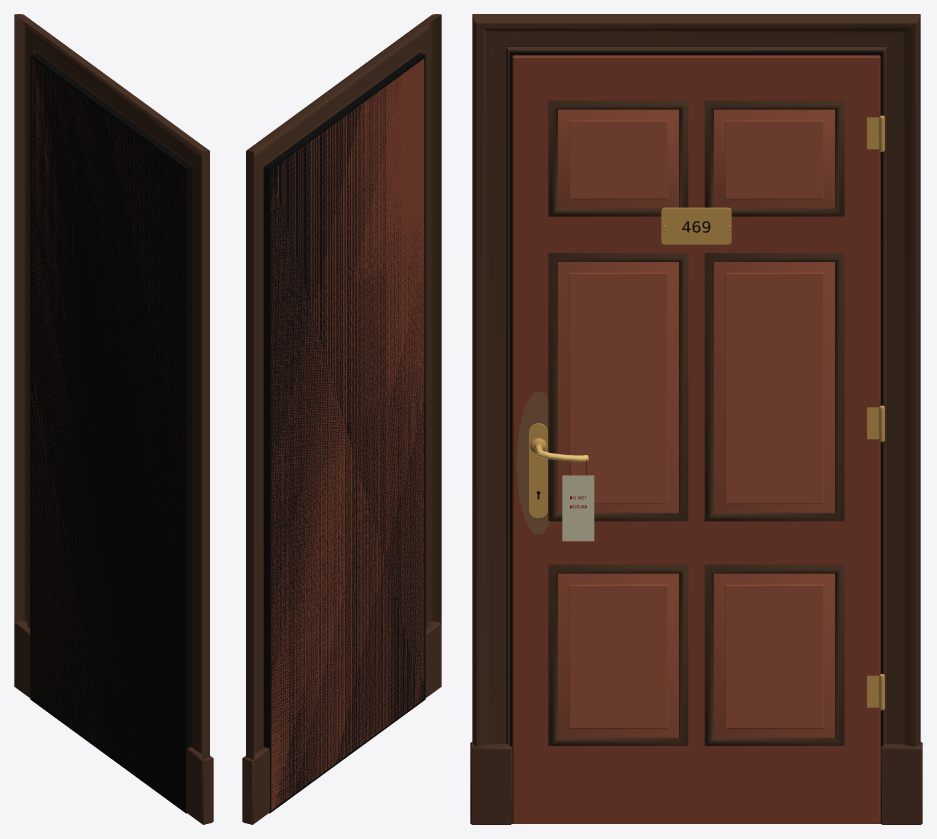
File: hotel_door_b@2.glb
3 views of the same model, side by side, from view 1: azimuth 30°, elevation 25°; view 2: azimuth 150°, elevation 25°; view 3: azimuth 270°, elevation 25° (orthographic). The views are drawn at different scales.
Parts seen in each view (by area): view 1: fuge, bekleidung, blatt; view 2: fuge, blatt, bekleidung; view 3: fuellungen, blatt, bekleidung, kehlleisten, fuge, beschlag, nummernschild, karte, abrieb.
Boxes of the visible parts, left/top/right/bottom form: fuge: left=30, top=53, right=192, bottom=813; bekleidung: left=14, top=14, right=213, bottom=824; blatt: left=31, top=59, right=184, bottom=776; fuge: left=263, top=53, right=425, bottom=813; blatt: left=271, top=58, right=424, bottom=810; bekleidung: left=242, top=14, right=441, bottom=824; fuellungen: left=558, top=109, right=834, bottom=737; blatt: left=512, top=55, right=880, bottom=823; bekleidung: left=470, top=14, right=922, bottom=824; kehlleisten: left=548, top=100, right=844, bottom=745; fuge: left=510, top=51, right=882, bottom=823; beschlag: left=529, top=115, right=884, bottom=710; nummernschild: left=661, top=207, right=731, bottom=244; karte: left=562, top=475, right=594, bottom=541; abrieb: left=516, top=392, right=550, bottom=533.
Bounding box in the file's own units: 0.1169 × 2.22 × 1.13.
